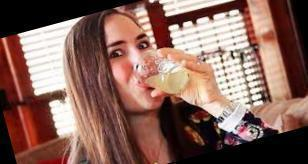Drunk: (102, 19, 163, 105)
